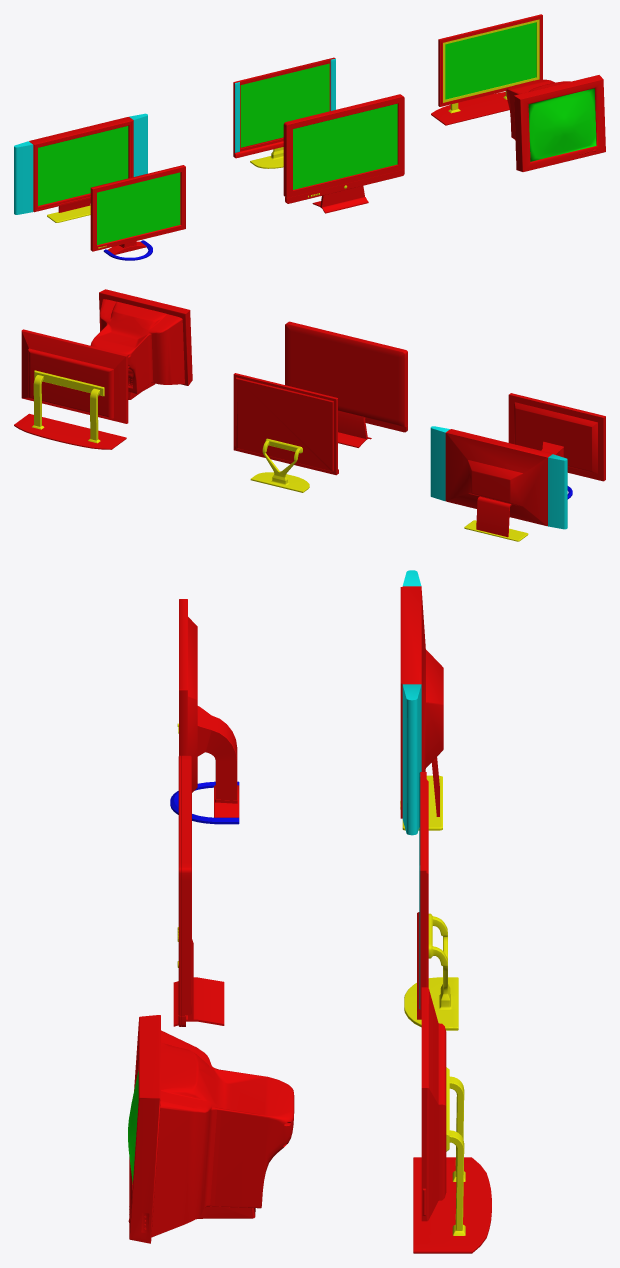
File: televisions_grp.fbx
3 views of the same model, one above another, from view 1: azimuth 30°, elevation 25°; view 2: azimuth 150°, elevation 25°; view 3: azimuth 270°, elevation 25° (orthographic). The views are drawn at different scales.
Parts seen in each view (by area): view 1: television_3, television_2, television_6, television_5, television_4, television_1, television_stand_5, television_stand_3, television_stand_2, television_stand_1, television_stand_4; view 2: television_2, television_3, television_4, television_6, television_5, television_1, television_stand_5, television_stand_2, television_stand_4, television_stand_3; view 3: television_6, television_2, television_stand_5, television_5, television_3, television_stand_1, television_1, television_stand_4, television_4, television_stand_3, television_stand_2.
Boxes of the visible parts, bbox=[...] form: television_3: bbox=[283, 94, 404, 203]; television_2: bbox=[14, 113, 147, 214]; television_6: bbox=[506, 75, 605, 171]; television_5: bbox=[438, 14, 542, 106]; television_4: bbox=[233, 57, 335, 158]; television_1: bbox=[90, 165, 185, 251]; television_stand_5: bbox=[431, 91, 509, 125]; television_stand_3: bbox=[312, 186, 368, 213]; television_stand_2: bbox=[47, 198, 90, 222]; television_stand_1: bbox=[103, 240, 152, 260]; television_stand_4: bbox=[250, 147, 283, 168]; television_2: bbox=[430, 426, 567, 529]; television_3: bbox=[285, 321, 407, 432]; television_4: bbox=[233, 373, 338, 475]; television_6: bbox=[90, 289, 192, 399]; television_5: bbox=[21, 329, 128, 423]; television_1: bbox=[508, 393, 605, 481]; television_stand_5: bbox=[14, 370, 126, 449]; television_stand_2: bbox=[464, 496, 528, 541]; television_stand_4: bbox=[250, 438, 309, 492]; television_stand_3: bbox=[338, 410, 371, 447]; television_6: bbox=[128, 1015, 294, 1243]; television_2: bbox=[400, 570, 443, 835]; television_stand_5: bbox=[413, 1067, 491, 1253]; television_5: bbox=[421, 987, 446, 1221]; television_3: bbox=[177, 755, 191, 1026]; television_stand_1: bbox=[170, 706, 239, 824]; television_1: bbox=[177, 599, 197, 792]; television_stand_4: bbox=[404, 913, 458, 1030]; television_4: bbox=[417, 772, 428, 1019]; television_stand_3: bbox=[173, 939, 224, 1026]; television_stand_2: bbox=[402, 757, 442, 830].
Bounding box in the file's own units: 515 × 89.88 × 153.
